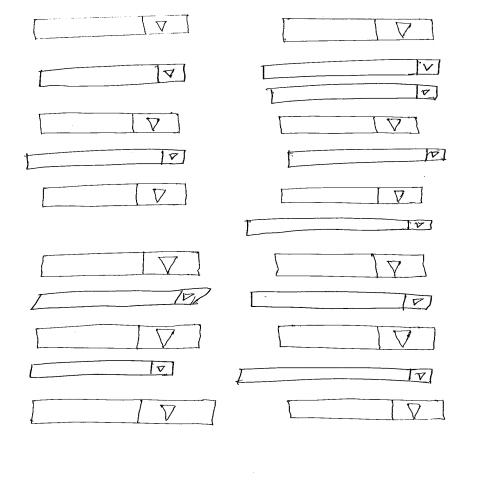Select: (31, 400, 218, 427), (40, 251, 202, 279), (36, 324, 203, 350), (30, 288, 214, 311), (278, 326, 437, 351), (42, 183, 188, 209), (262, 60, 442, 81), (283, 19, 435, 43), (275, 254, 427, 278), (38, 64, 187, 88), (246, 218, 434, 237), (269, 85, 439, 106), (26, 149, 187, 171), (288, 399, 447, 421), (250, 292, 434, 311), (287, 149, 447, 169), (237, 368, 435, 384), (39, 113, 182, 135), (280, 116, 422, 135), (29, 361, 176, 379), (281, 187, 424, 205)
